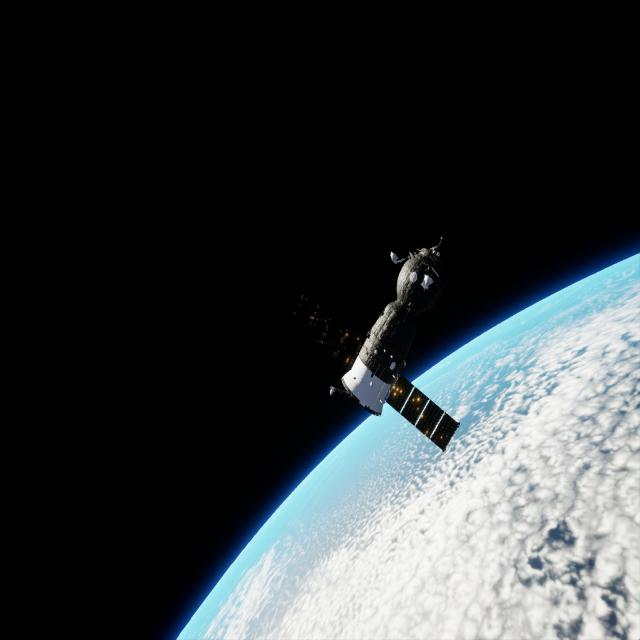Satellites revolving around earth: (175, 250, 639, 638), (328, 232, 462, 456)
